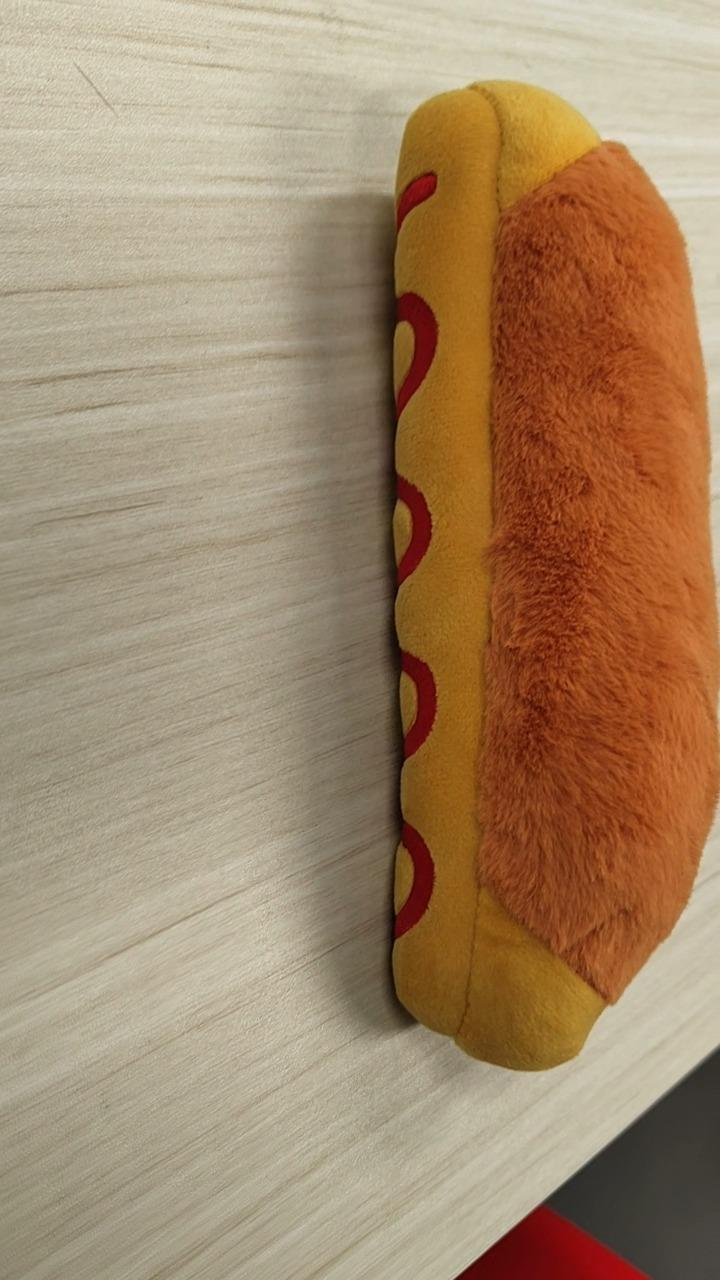hotdog: (386, 77, 717, 1072)
